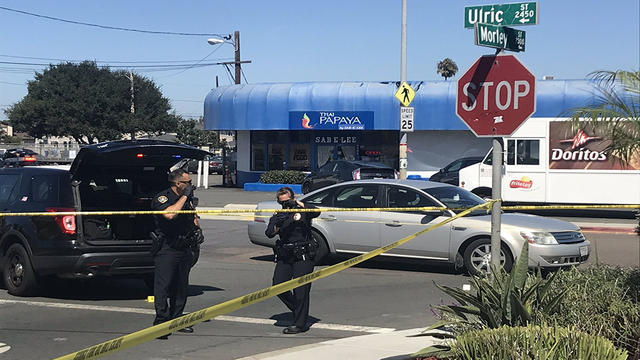stop: (454, 55, 535, 140)
